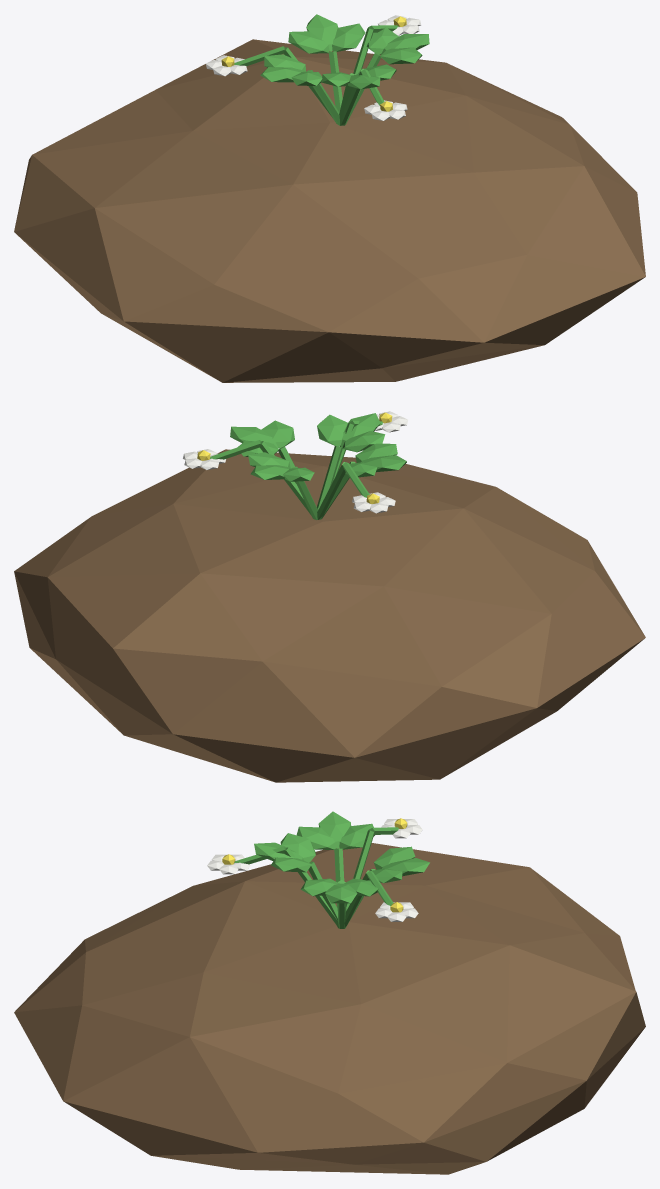
The model's file is fraise_2_pousse.fbx.
The picture shows the model from 3 angles, top to bottom: view 1: azimuth 30°, elevation 25°; view 2: azimuth 150°, elevation 25°; view 3: azimuth 270°, elevation 25°; orthographic projection.
Visible parts, largest first — view 1: fraise_2_pousse; view 2: fraise_2_pousse; view 3: fraise_2_pousse.
Part boxes in pixels (<box>): fraise_2_pousse: <box>14,14,645,382</box>; fraise_2_pousse: <box>14,411,645,782</box>; fraise_2_pousse: <box>14,811,645,1174</box>.
Size of the model in its own units: 0.9799 by 0.4639 by 0.9972.
